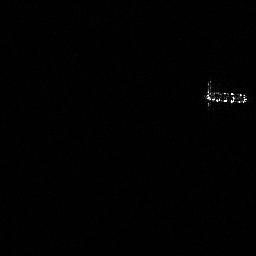ship: (201, 76, 250, 111)
